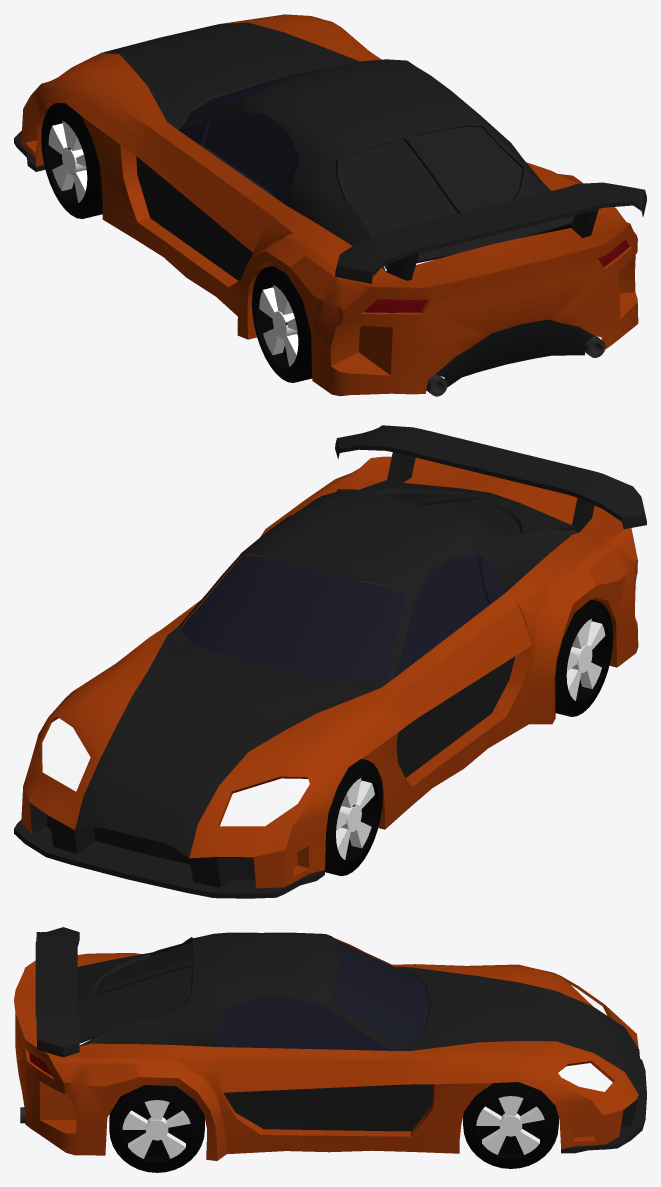
Rendered from player_car.glb.
The picture shows the model from 3 angles, top to bottom: view 1: azimuth 30°, elevation 25°; view 2: azimuth 150°, elevation 25°; view 3: azimuth 270°, elevation 25°; orthographic projection. The views are drawn at different scales.
Visible parts, largest first — view 1: MAIN, back_window.001, side_window, front_l_tire, back_l_tire, back_window, front_window, taillights; view 2: MAIN, front_window, side_window, headlights, back_l_tire, front_l_tire, back_window, back_window.001; view 3: MAIN, back_r_tire, front_r_tire, side_window, front_window, back_window.001, back_window, headlights.
Boxes of the visible parts, left/top/right/bottom form: MAIN: left=14, top=14, right=646, bottom=396; back_window.001: left=339, top=126, right=522, bottom=224; side_window: left=178, top=111, right=299, bottom=204; front_l_tire: left=41, top=103, right=102, bottom=218; back_l_tire: left=252, top=266, right=312, bottom=382; back_window: left=336, top=123, right=574, bottom=268; front_window: left=184, top=66, right=335, bottom=123; taillights: left=363, top=239, right=629, bottom=312; MAIN: left=14, top=425, right=646, bottom=898; front_window: left=181, top=554, right=404, bottom=681; side_window: left=393, top=555, right=504, bottom=678; headlights: left=42, top=718, right=309, bottom=826; back_l_tire: left=555, top=599, right=613, bottom=716; front_l_tire: left=325, top=759, right=382, bottom=876; back_window: left=336, top=480, right=579, bottom=537; back_window.001: left=381, top=493, right=520, bottom=535; MAIN: left=14, top=927, right=646, bottom=1160; back_r_tire: left=109, top=1085, right=204, bottom=1172; front_r_tire: left=463, top=1082, right=558, bottom=1168; side_window: left=216, top=997, right=391, bottom=1050; front_window: left=331, top=939, right=429, bottom=1049; back_window.001: left=95, top=942, right=192, bottom=1020; back_window: left=77, top=937, right=194, bottom=1043; headlights: left=558, top=985, right=612, bottom=1091.
Size of the model in its own units: 1.35 by 0.8085 by 2.94.
